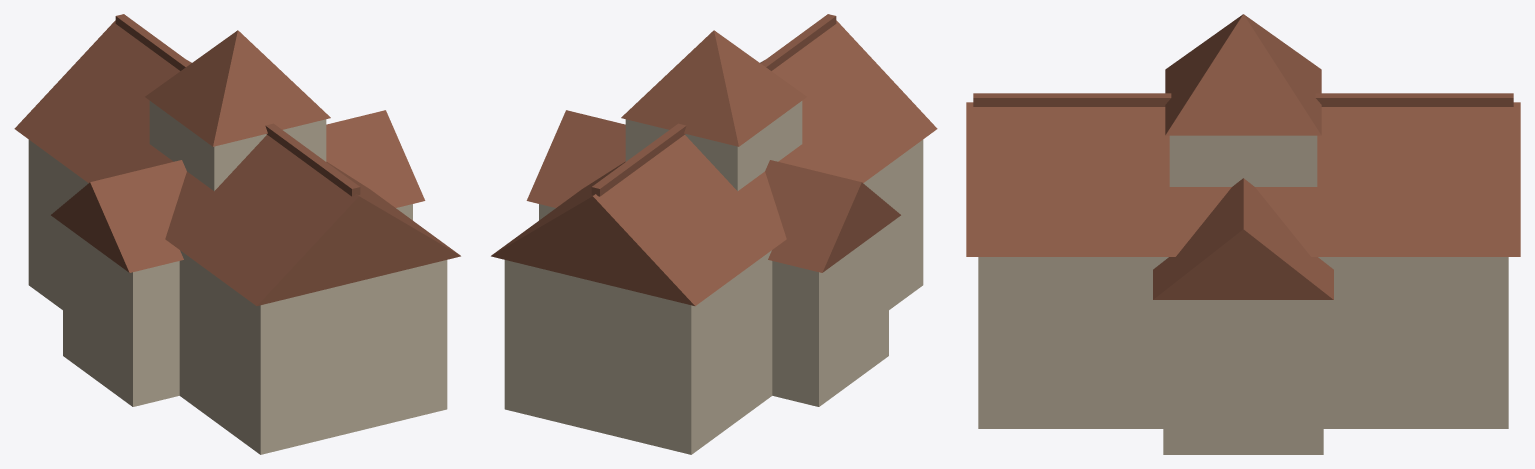
File: church.glb
3 views of the same model, side by side, from view 1: azimuth 30°, elevation 25°; view 2: azimuth 150°, elevation 25°; view 3: azimuth 270°, elevation 25° (orthographic). The views are drawn at different scales.
Visible parts, largest first — view 1: church; view 2: church; view 3: church.
Boxes of the visible parts, box(x1,y1,x2,y2) form: church: box(14, 14, 460, 454); church: box(491, 14, 937, 454); church: box(966, 14, 1520, 454).
Size of the model in its own units: 12.68 by 13 by 18.
